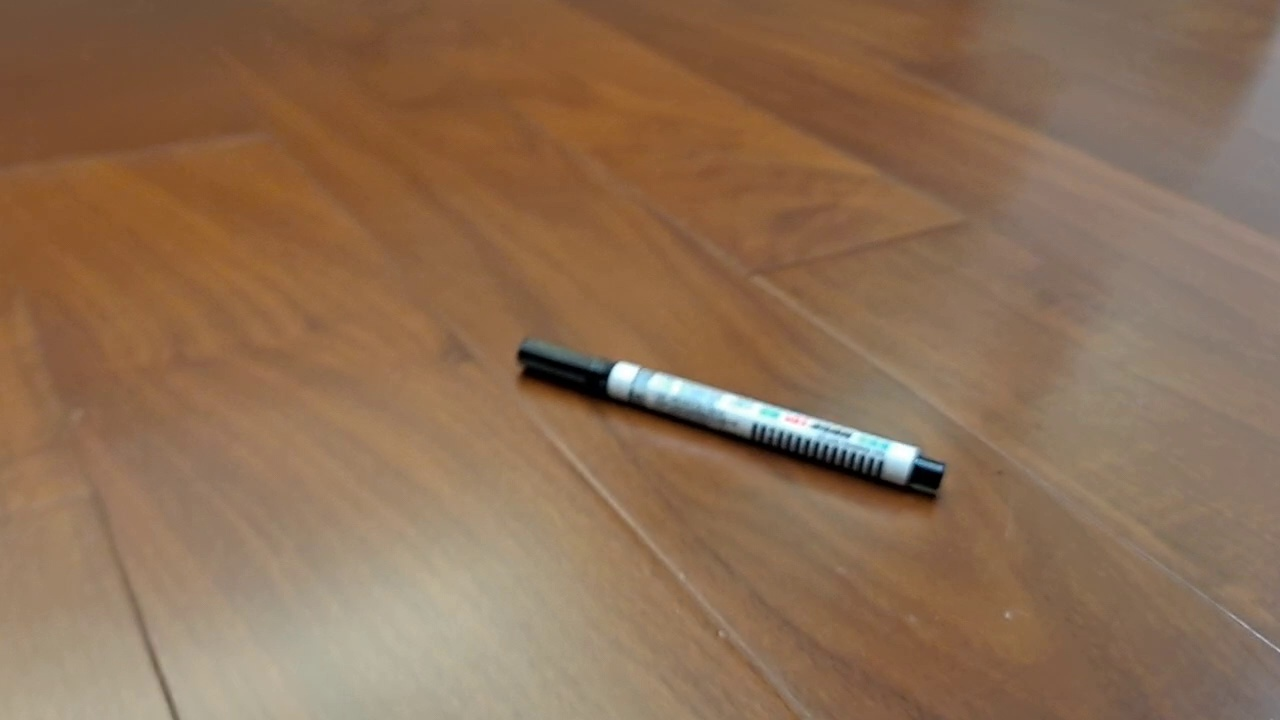pen: (516, 335, 947, 495)
